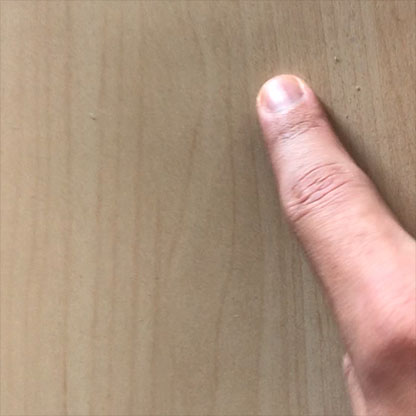fingertip: (242, 60, 328, 128)
